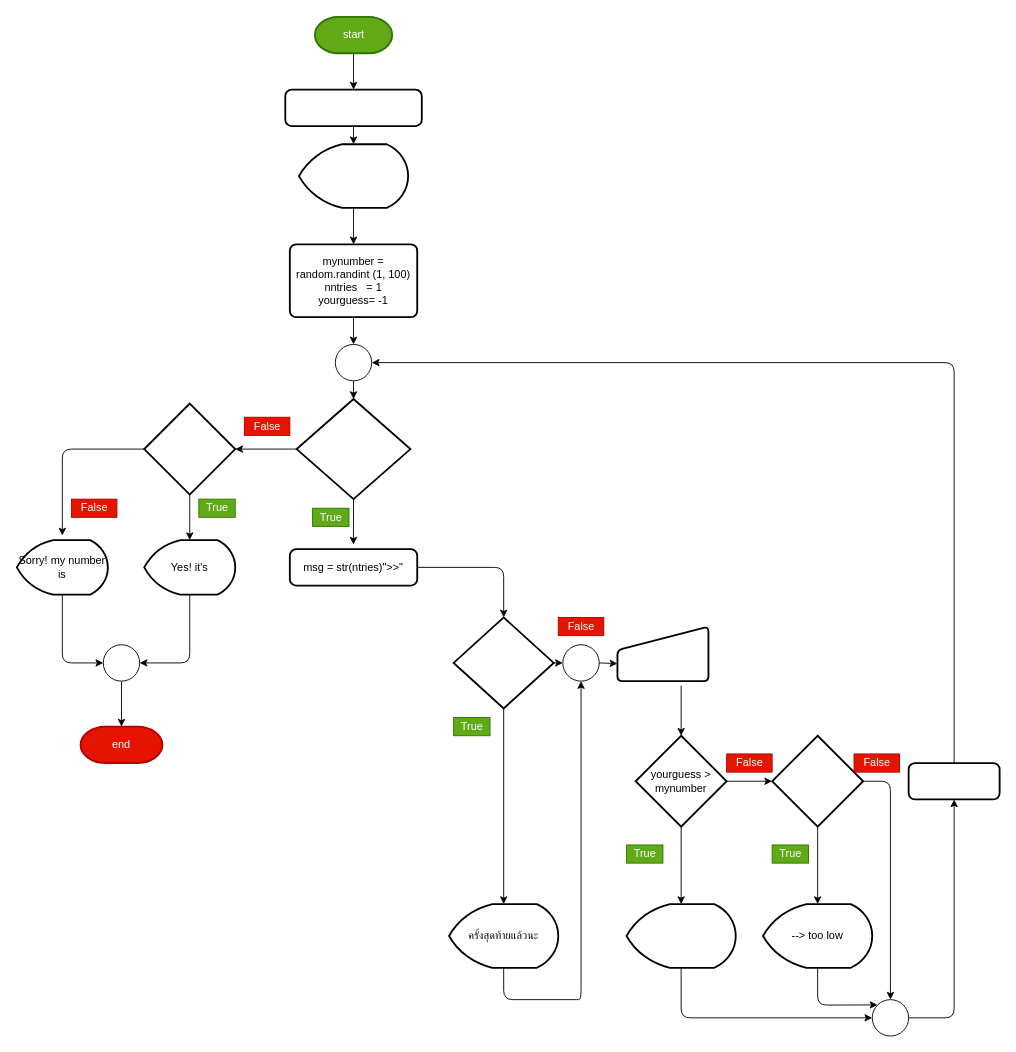
Image size: 1016x1052. Some labels were removed from this diagram. Here are the shapes that lost their labels. From the top down, the centre of each, then its label:
At [353,107]: "import random".
At [353,175]: "What is my magic number (1 to 100)".
At [189,448]: "yourguess == mynumber".
At [353,449]: "ntries < 7 and mynumber != yourguess".
At [503,662]: "ntries == 6".
At [662,653]: "yourguess".
At [817,780]: "yourguess < mynumber".
At [953,781]: "ntries += 1".
At [680,935]: "--> too high".
